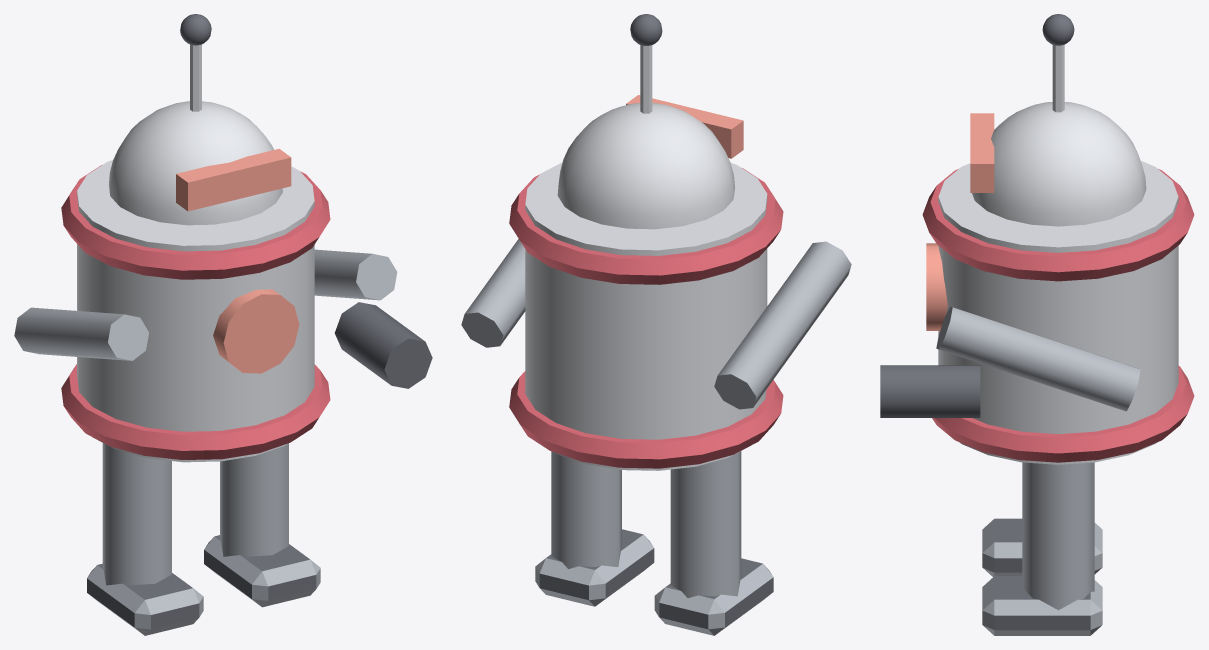
Rendered from ic_robot_rival.glb.
3 views of the same model, side by side, from view 1: azimuth 30°, elevation 25°; view 2: azimuth 150°, elevation 25°; view 3: azimuth 270°, elevation 25° (orthographic).
Visible parts, largest first — view 1: ic_robot_rival; view 2: ic_robot_rival; view 3: ic_robot_rival.
Boxes of the visible parts, x1,y1,x2,y2 form: ic_robot_rival: [14, 14, 432, 635]; ic_robot_rival: [461, 14, 851, 635]; ic_robot_rival: [880, 14, 1194, 635].
Bounding box in the file's own units: 0.85 × 1.6 × 0.785.
